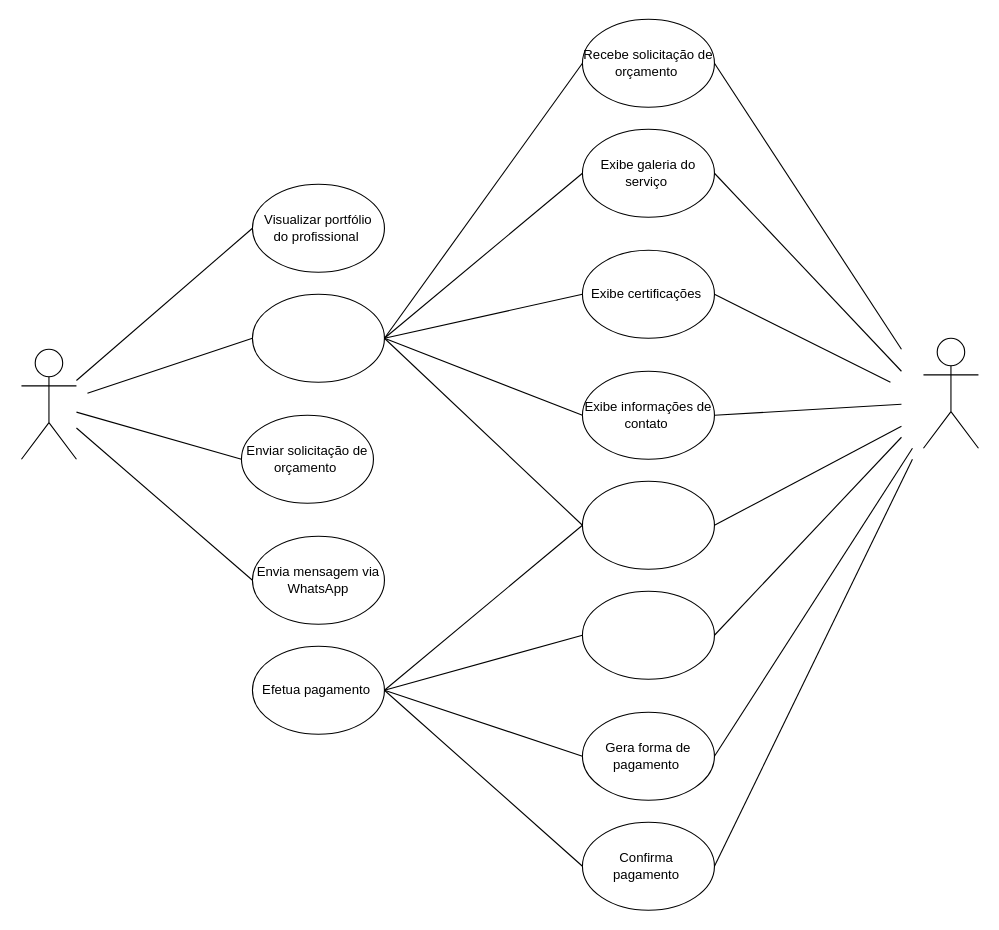
This 999x930 diagram has some shape labels left out. Here are the shapes that lost their labels. From the top down, the centre of each, then its label:
At (317,337): "Preenche Formulário de orçamento".
At (48,403): "USUARIO".
At (950,392): "SISTEMA".
At (647,524): "Processa envio de formulário".
At (647,634): "Redireciona para WhatsApp".
